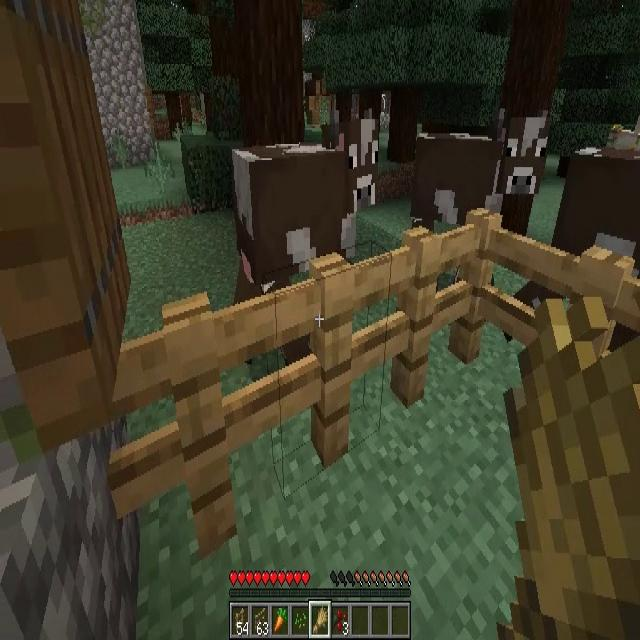cow: (230, 117, 380, 350), (501, 150, 640, 342), (415, 114, 548, 302)
